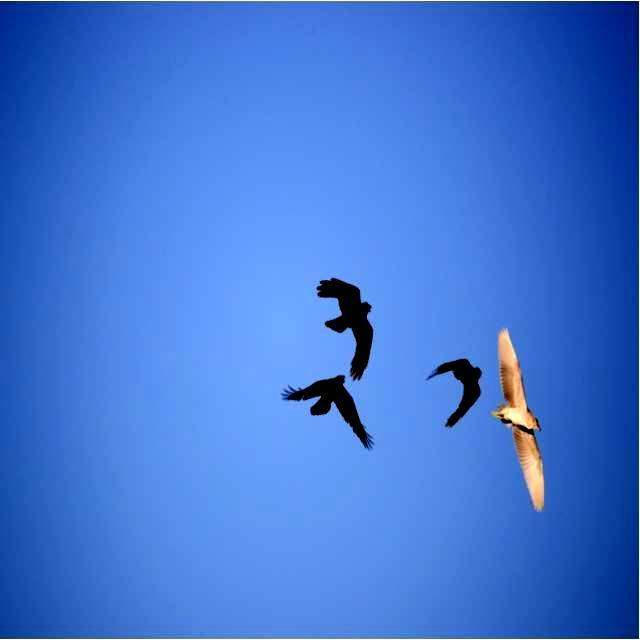bird: (492, 328, 558, 510), (276, 374, 376, 448), (317, 265, 383, 374), (425, 341, 485, 438)
